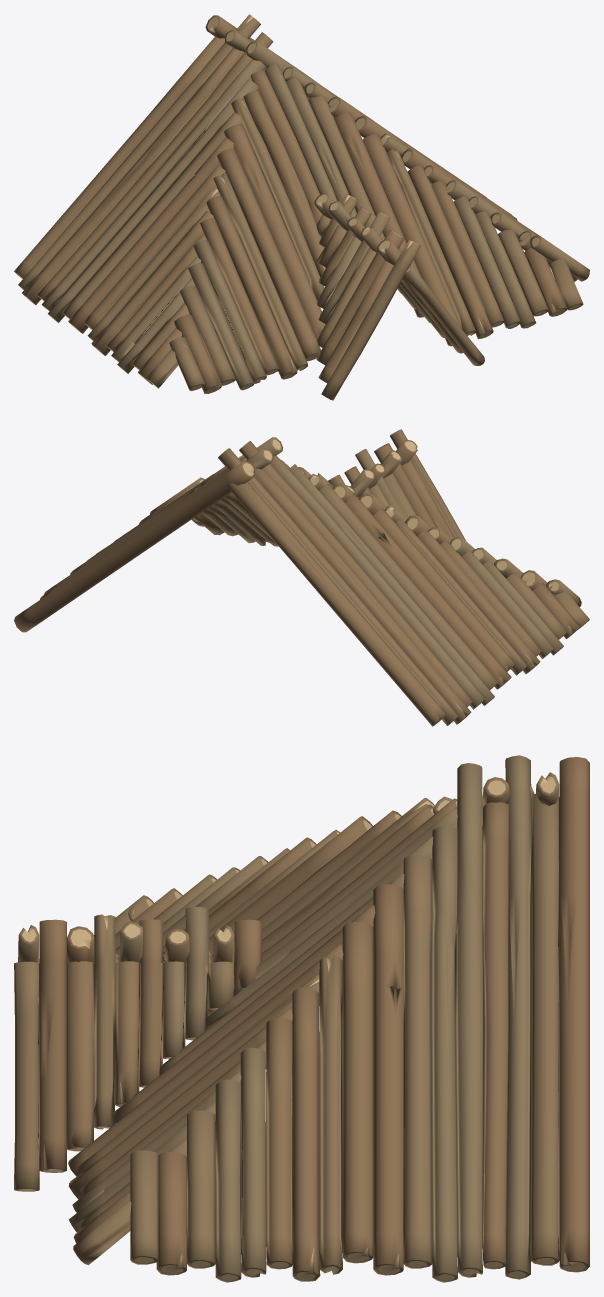
Rendered from rpgpp_ag_roof_01_9x4x3_end_03.fbx.
3 renders of one model, top to bottom at view 1: azimuth 30°, elevation 25°; view 2: azimuth 150°, elevation 25°; view 3: azimuth 270°, elevation 25°, orthographic. The views are drawn at different scales.
Visible parts, largest first — view 1: rpgpp_ag_roof_01_9x4x3_end_03; view 2: rpgpp_ag_roof_01_9x4x3_end_03; view 3: rpgpp_ag_roof_01_9x4x3_end_03.
Part boxes in pixels (x1,y1,x2,y2): rpgpp_ag_roof_01_9x4x3_end_03: (14,14,589,400); rpgpp_ag_roof_01_9x4x3_end_03: (14,429,589,726); rpgpp_ag_roof_01_9x4x3_end_03: (14,755,589,1282).
Size of the model in its own units: 11.14 by 5.77 by 7.98.
